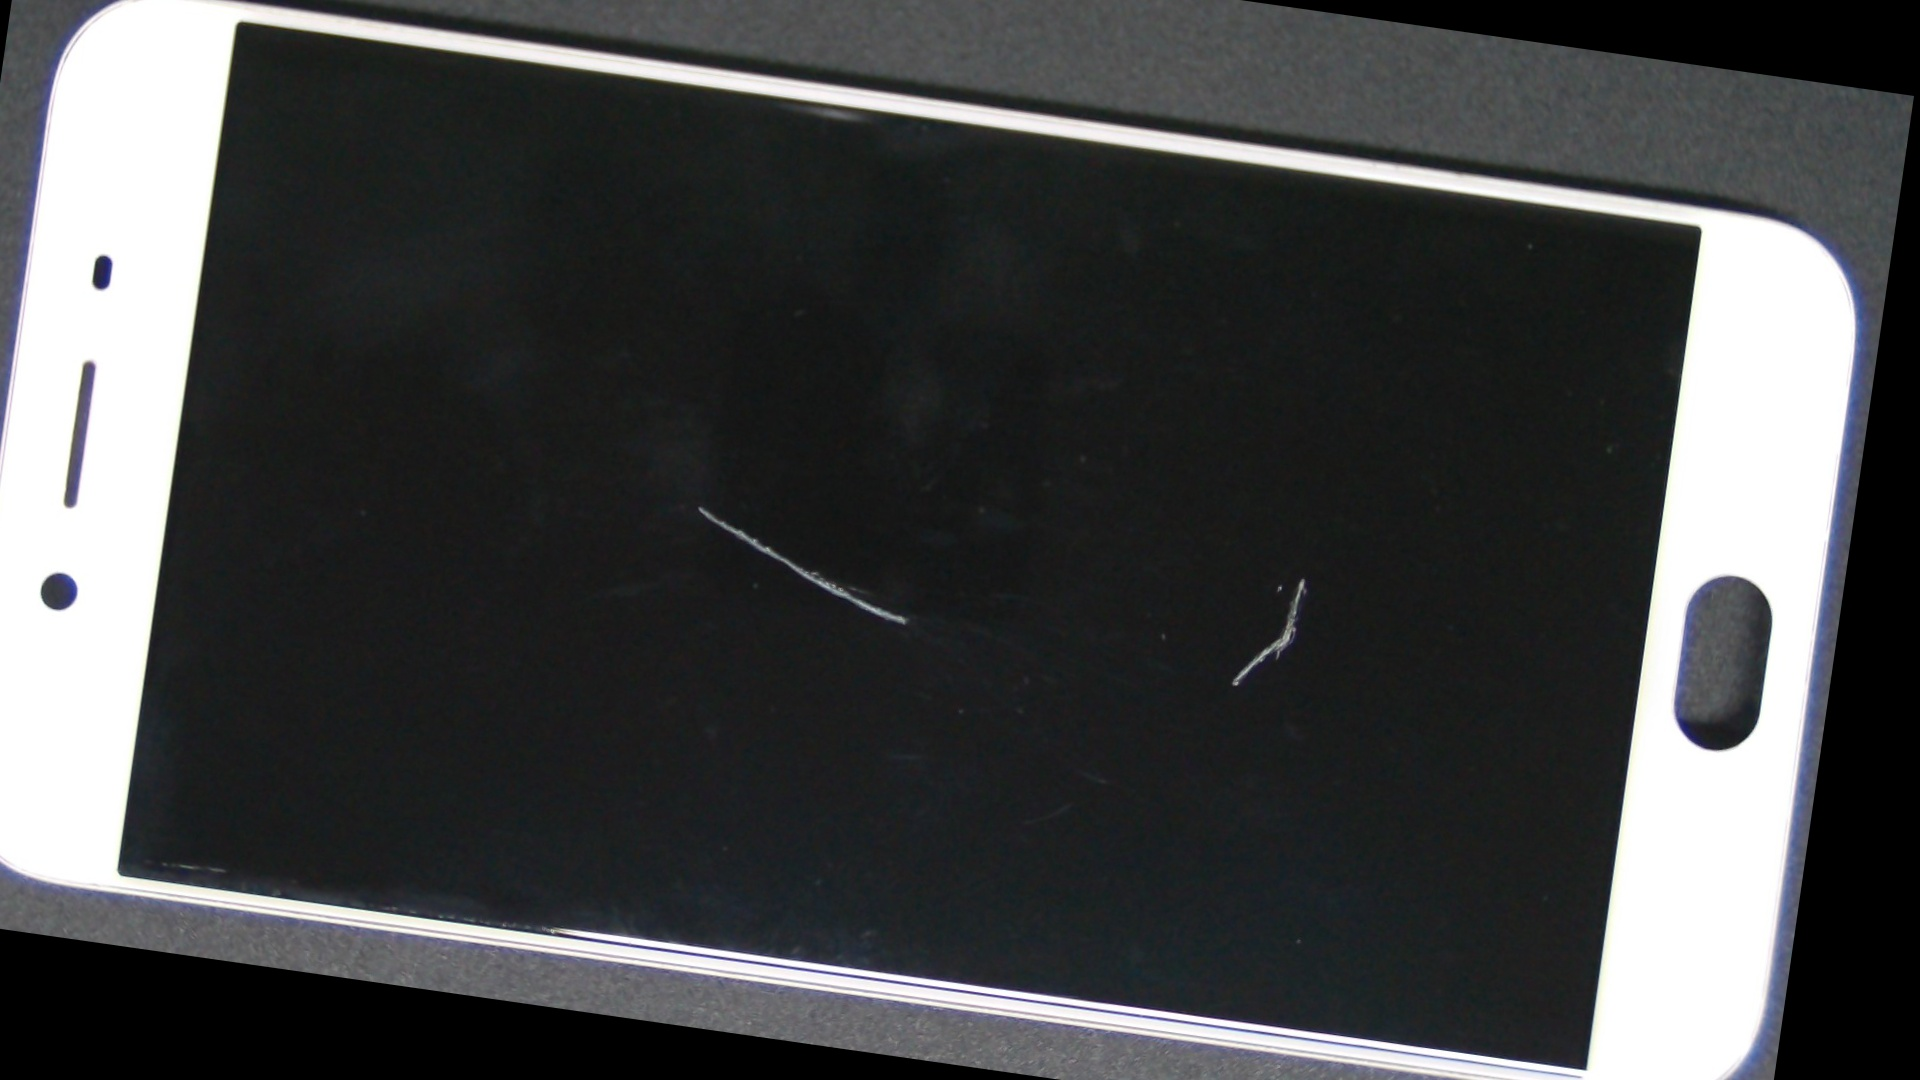oil: (591, 203, 1874, 934), (286, 165, 1110, 845)
